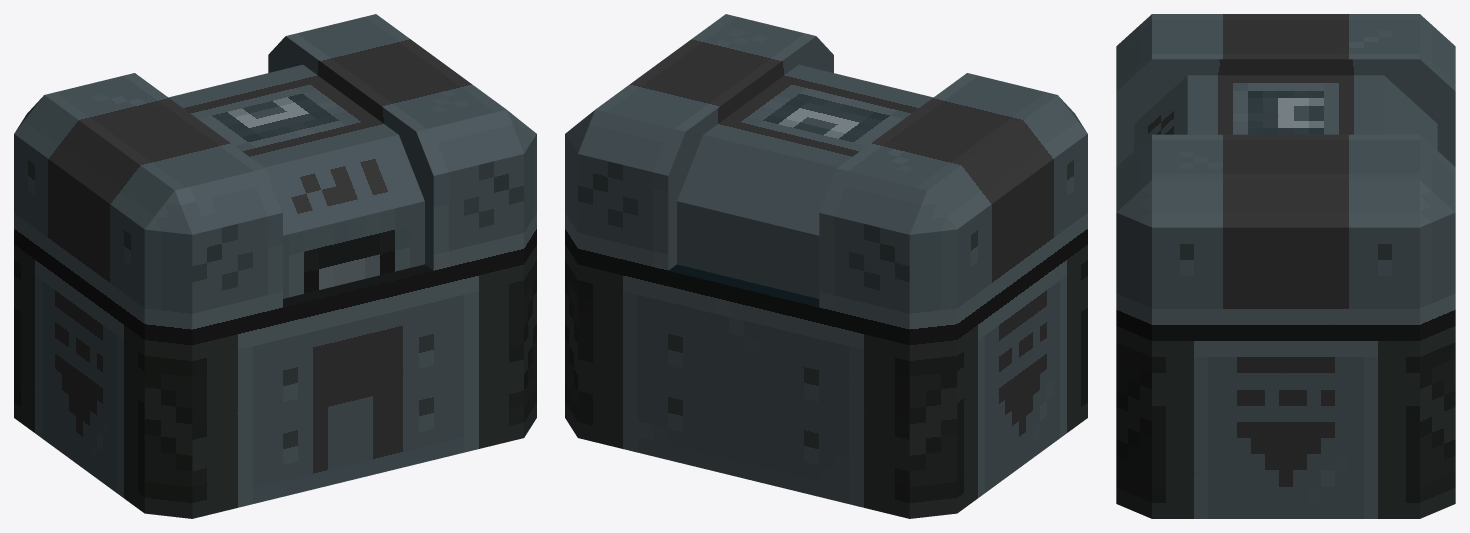
Rendered from tritanium_crate_black.obj.
3 renders of one model, left to right at view 1: azimuth 30°, elevation 25°; view 2: azimuth 150°, elevation 25°; view 3: azimuth 270°, elevation 25°, orthographic. The views are drawn at different scales.
Visible parts, largest first — view 1: base; view 2: base; view 3: base.
Boxes of the visible parts, box(x1,y1,x2,y2) form: base: box(14, 14, 536, 518); base: box(565, 14, 1087, 518); base: box(1116, 14, 1455, 518).
Size of the model in its own units: 0.9958 by 0.766 by 0.7278.
